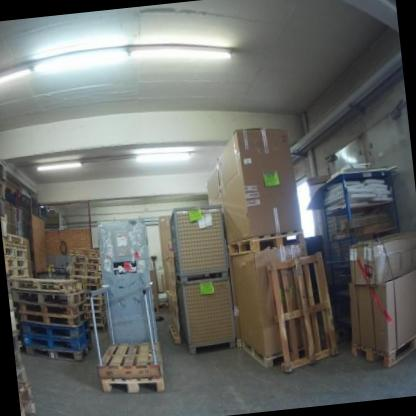pallet: (263, 247, 342, 375), (91, 337, 166, 384), (348, 324, 416, 373), (226, 227, 307, 258), (159, 251, 182, 345), (23, 336, 93, 366), (18, 304, 93, 330), (240, 331, 286, 373), (11, 285, 84, 311), (99, 371, 168, 398), (16, 295, 85, 321), (12, 272, 81, 296), (20, 315, 91, 338), (21, 327, 90, 350), (71, 243, 102, 258), (74, 253, 100, 265), (5, 255, 28, 268), (4, 241, 29, 252), (5, 231, 25, 243), (20, 400, 35, 416), (75, 263, 100, 272), (20, 383, 31, 403), (83, 286, 101, 298), (4, 249, 27, 258), (81, 282, 103, 291), (6, 267, 28, 276), (6, 274, 27, 283), (78, 270, 101, 278), (79, 276, 101, 284), (14, 349, 22, 369), (16, 368, 26, 382)
stillage: (167, 202, 231, 282), (176, 276, 238, 357)
